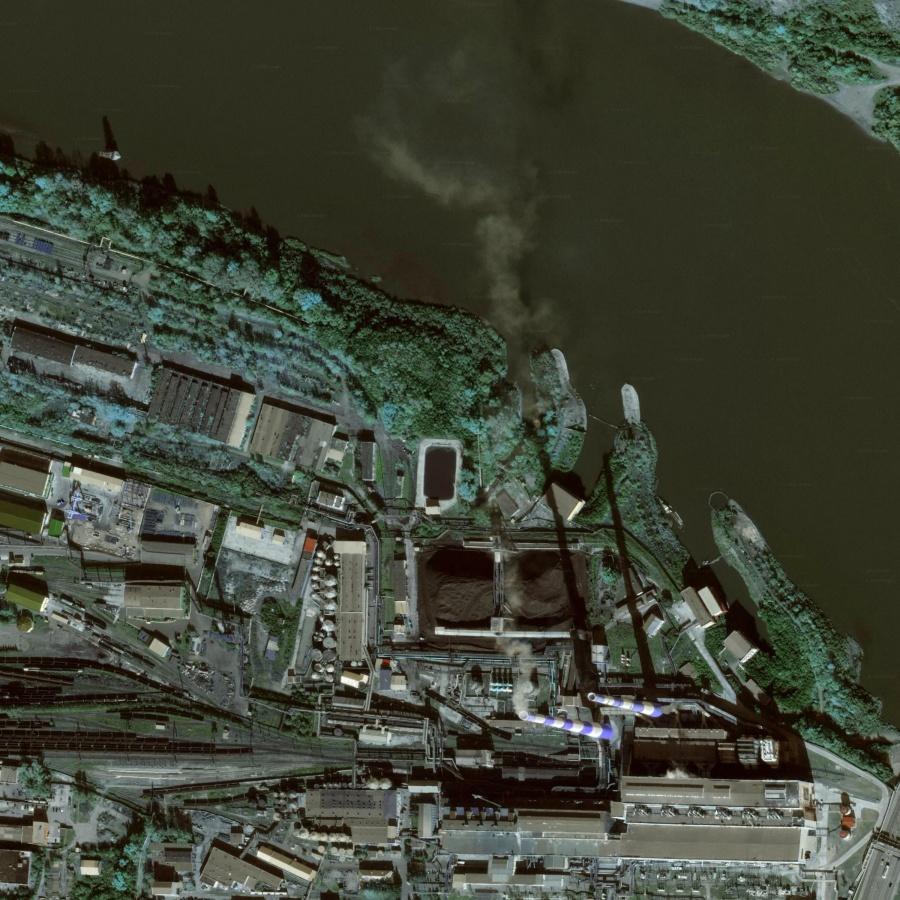PowerPlant: (397, 513, 801, 857)
